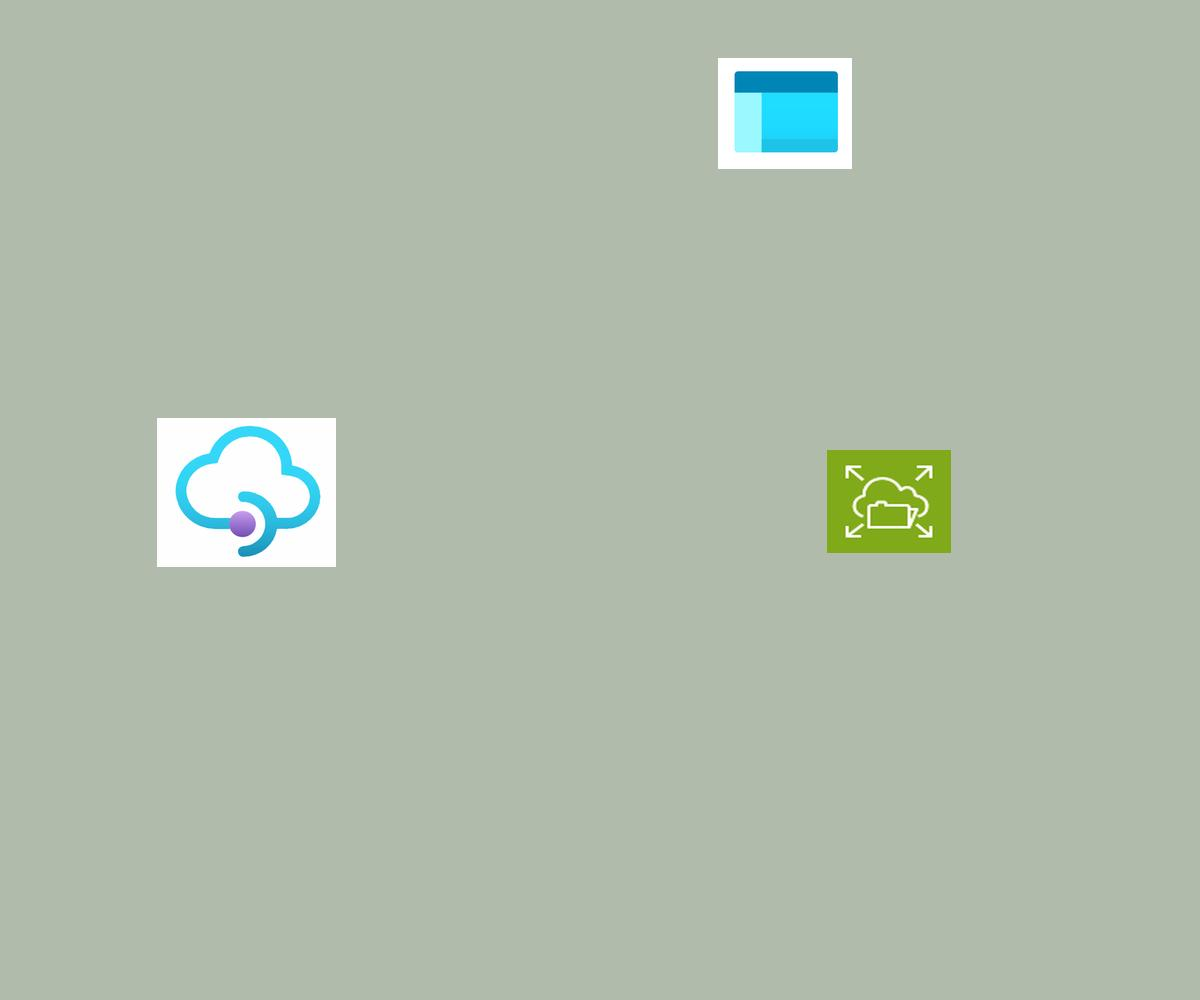AWS-EFS: (827, 450, 951, 553)
Azure_api_gateway: (157, 418, 336, 567)
Azure_management-portal: (718, 58, 852, 169)
